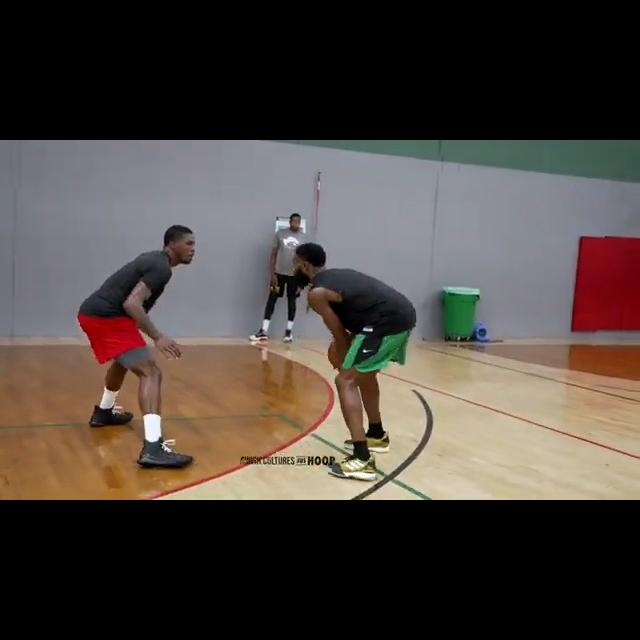basketball: (326, 337, 351, 367)
person: (75, 225, 206, 472), (292, 242, 417, 484), (250, 212, 309, 344)
